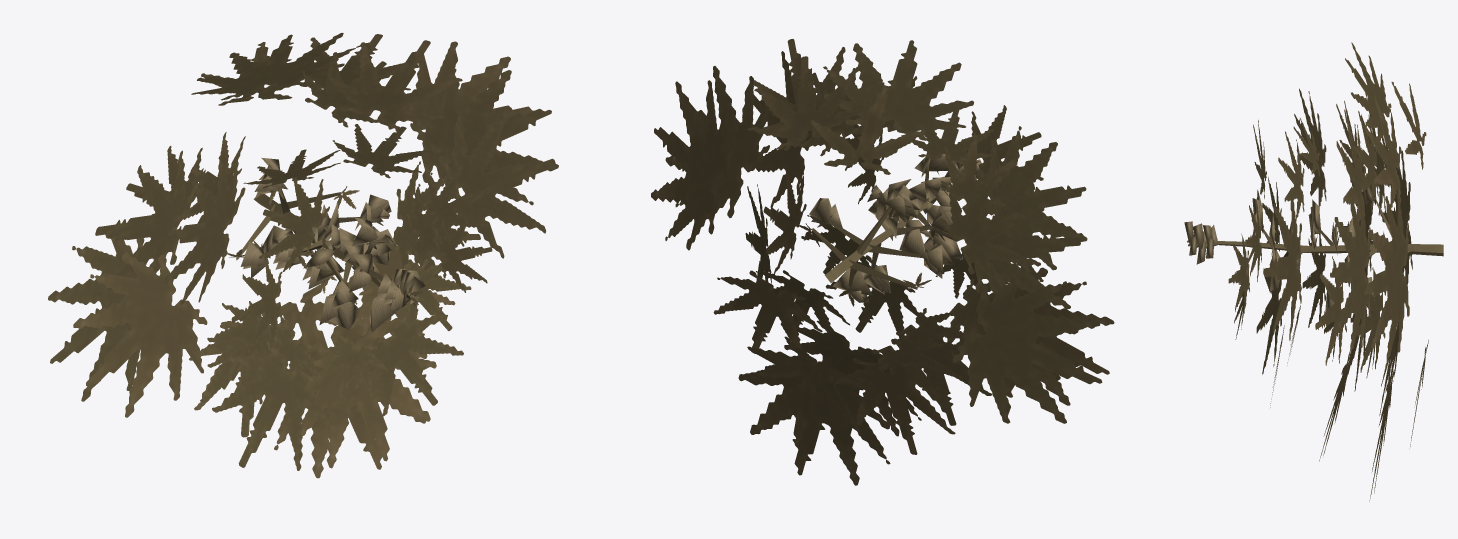
Rendered from p_male_landrace_ripe_c4_cards.obj.
3 views of the same model, side by side, from view 1: azimuth 30°, elevation 25°; view 2: azimuth 150°, elevation 25°; view 3: azimuth 270°, elevation 25° (orthographic). The views are drawn at different scales.
Bounding box in the file's own units: 1.61 × 1.41 × 0.761.
Materials: 1 (1 with a texture image).
